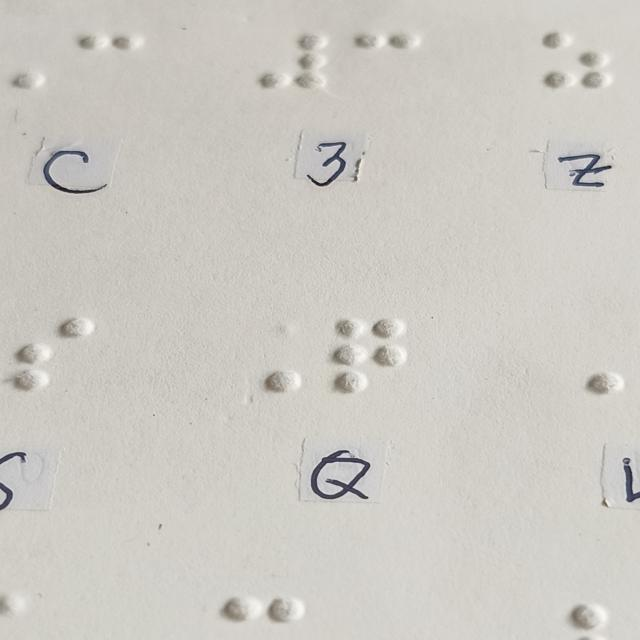3: (351, 31, 422, 88)
Q: (335, 320, 405, 395)
c: (75, 32, 146, 89)
capital: (233, 320, 303, 395)
number: (259, 35, 330, 92)
s: (20, 318, 93, 392)
z: (540, 32, 611, 89)
